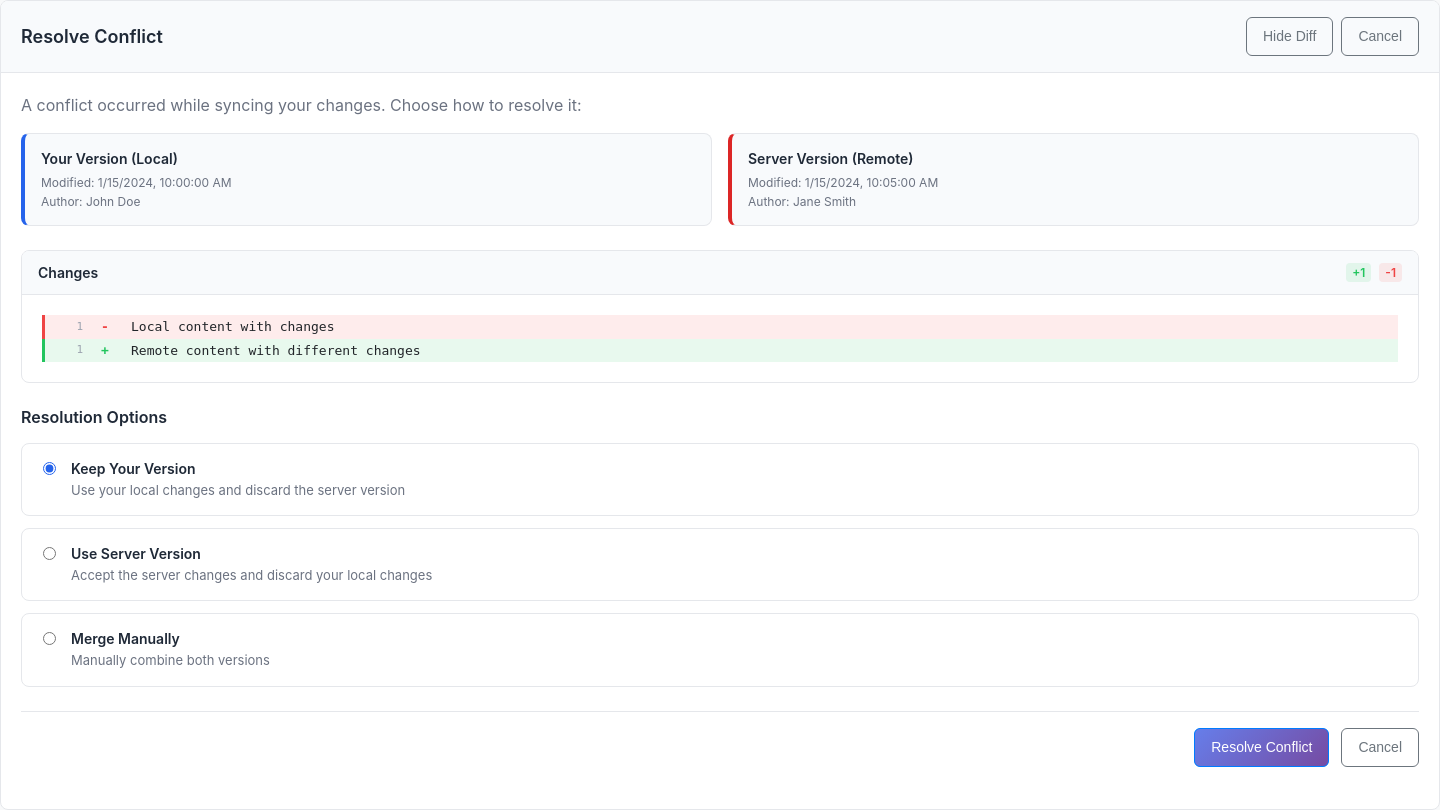
Test: ConflictResolution › toggles diff view when Hide/Show Diff button is clicked
What coordinates should you click on to do the following:
click the button "Hide Diff"
I would click on:
 (1290, 36)
Its box is [1246,17,1333,56].
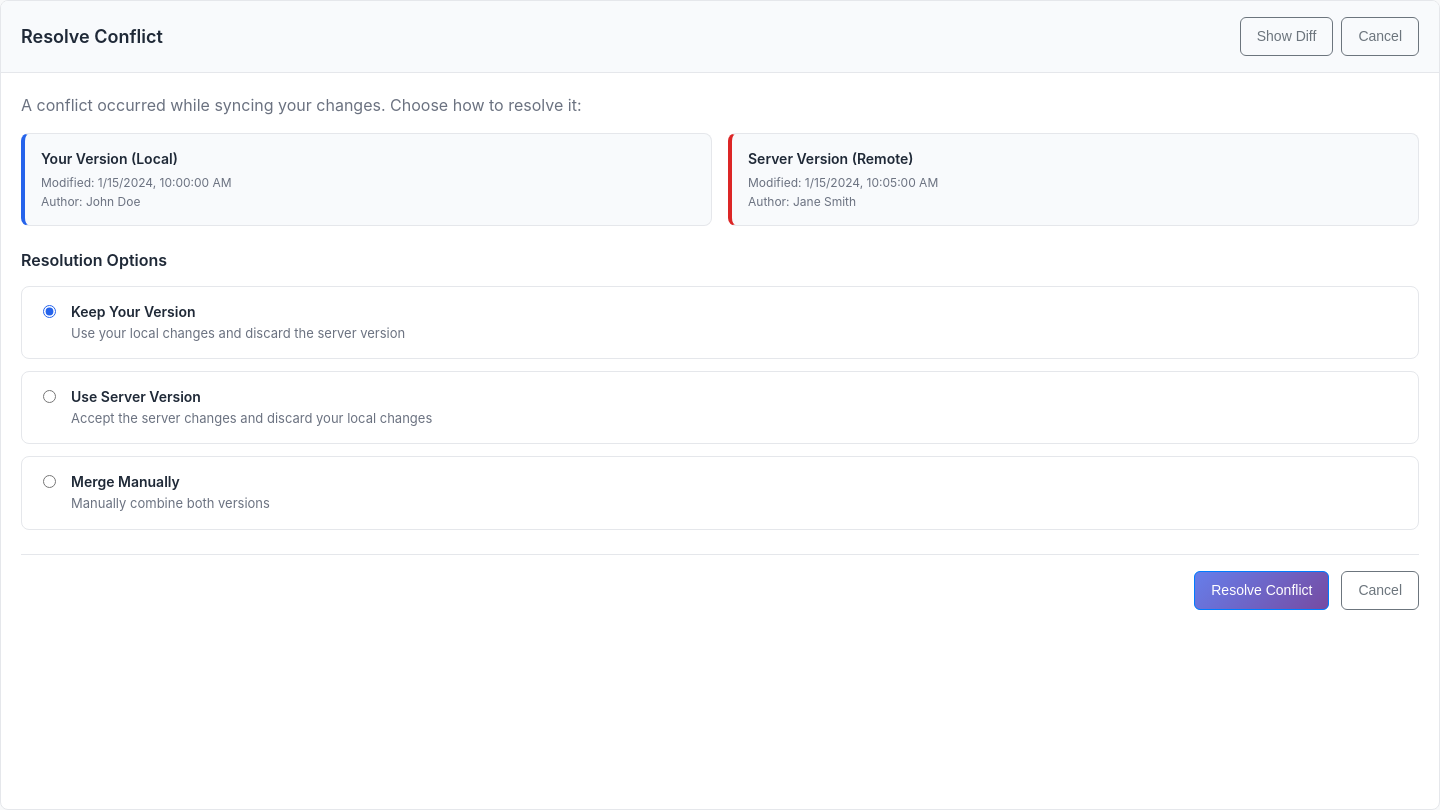
Now the button "Show Diff" is shown
What coordinates should you click on to do the following:
click the button "Show Diff"
I would click on:
 (1287, 36)
Its box is [1240,17,1333,56].
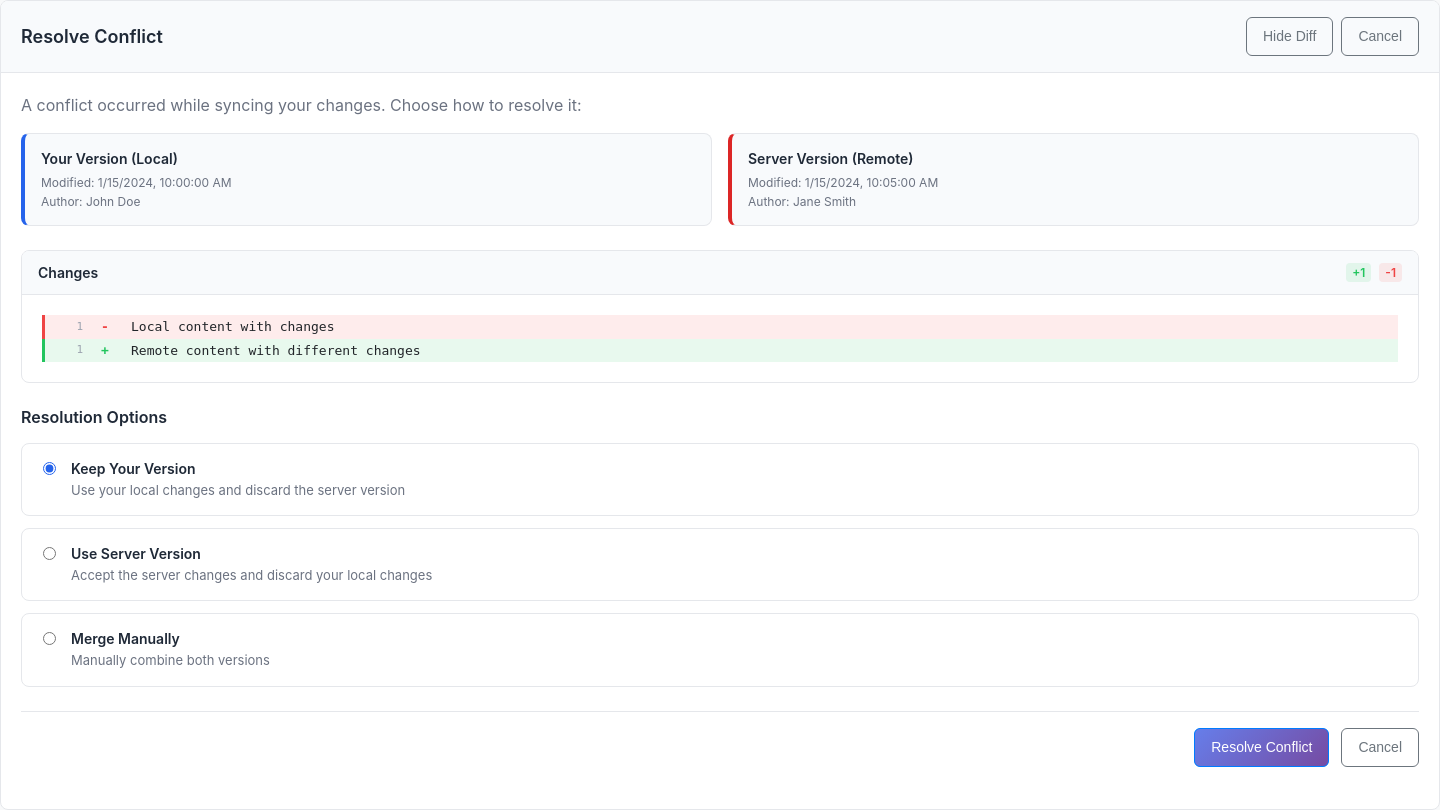
Now the button "Hide Diff" is shown, box [1246,17,1333,56]
Now the heading "Changes" is shown, box [38,264,98,281]
